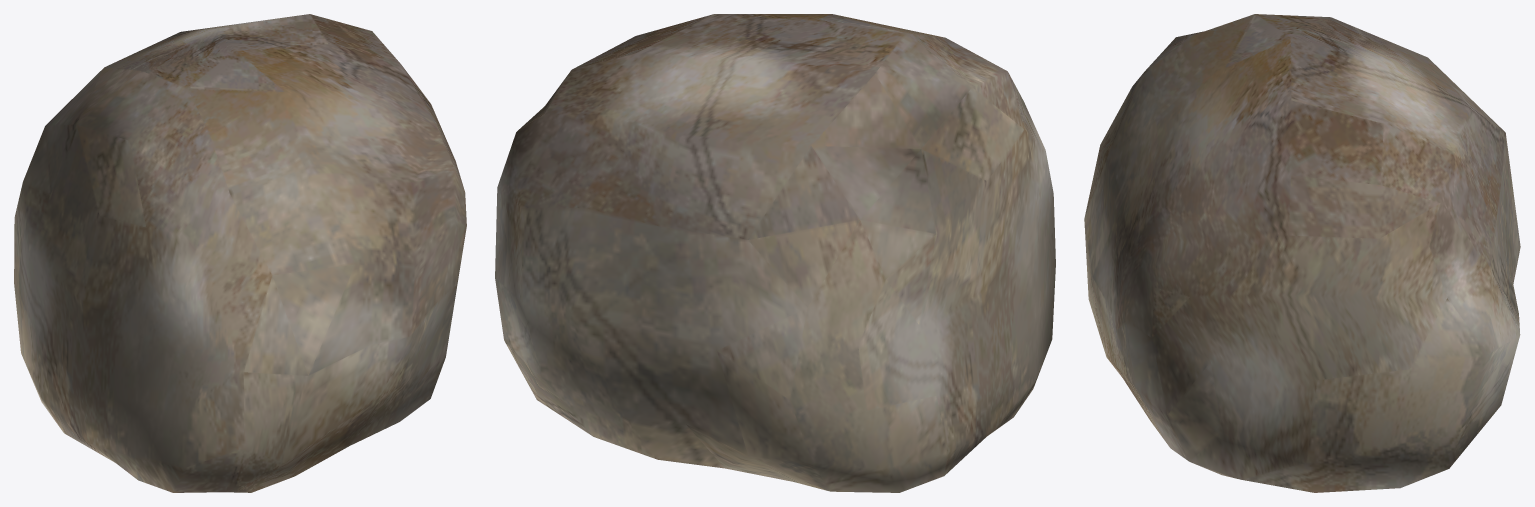
Rendered from MysteryGeode.glb.
3 renders of one model, left to right at view 1: azimuth 30°, elevation 25°; view 2: azimuth 150°, elevation 25°; view 3: azimuth 270°, elevation 25°, orthographic. The views are drawn at different scales.
Parts seen in each view (by area): view 1: MysteryGeode; view 2: MysteryGeode; view 3: MysteryGeode.
Part boxes in pixels (x1,y1,x2,y2): MysteryGeode: (14,14,466,492); MysteryGeode: (495,14,1055,492); MysteryGeode: (1084,14,1520,492).
Bounding box in the file's own units: 0.567 × 0.5597 × 0.5549.
1 material, 1 textured.
